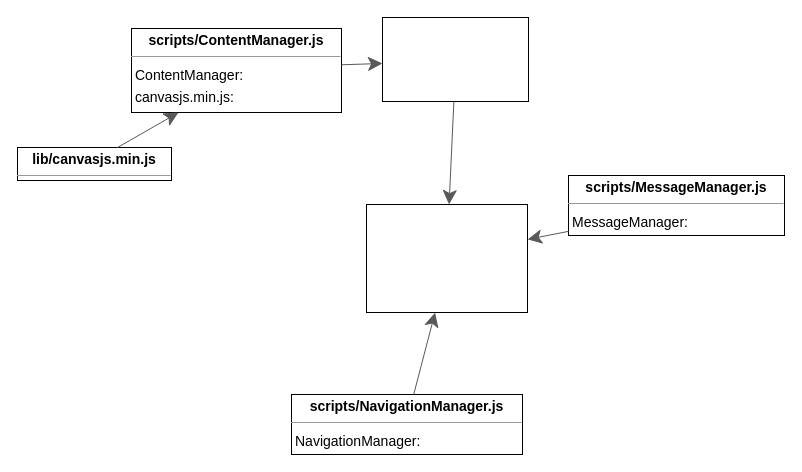
The diagram is 802 pixels wide and 472 high, and some of its shapes have lost their labels. The centre of each missing label's shape, as x and y in pixels:
"scripts/Device.js ContentManager: Device:" goes at pixel 455 59.
"scripts/main.js Device: MessageManager: NavigationManager:" goes at pixel 447 258.
